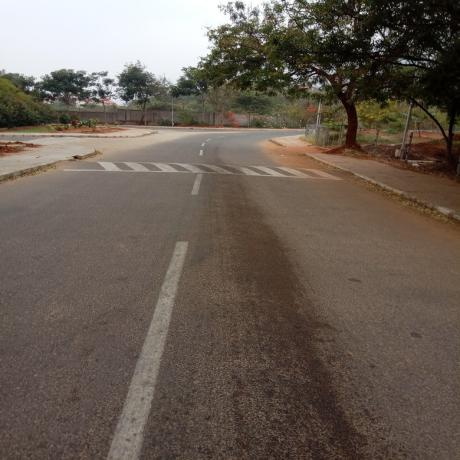Speed Bump: (58, 160, 352, 180)
